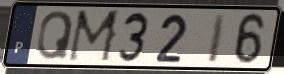2: (151, 10, 192, 66)
3: (116, 10, 151, 64)
6: (232, 11, 268, 68)
I: (205, 11, 229, 65)
M: (65, 9, 123, 64)
Q: (35, 9, 76, 62)
